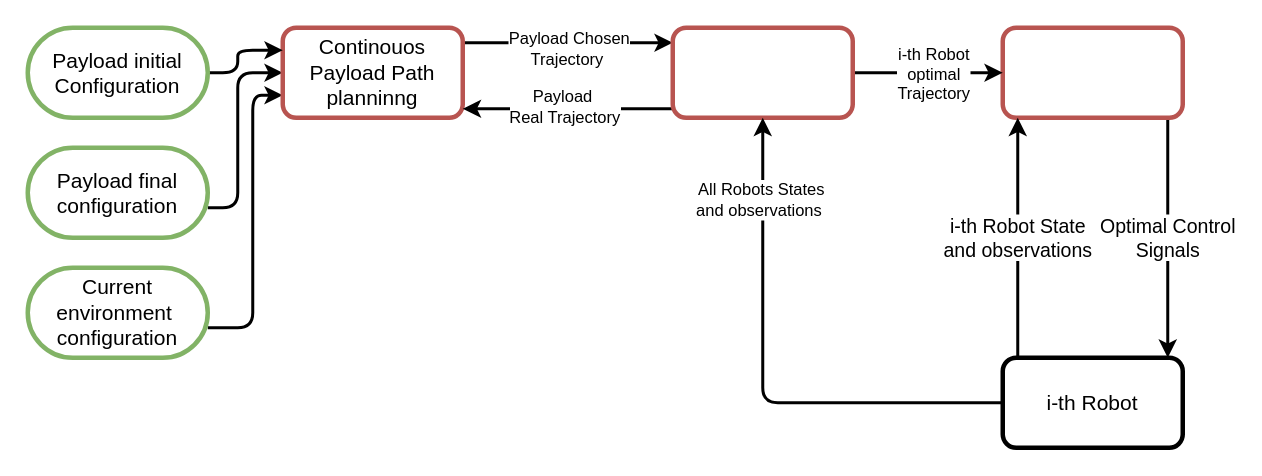
The diagram is 1262 pixels wide and 476 high, and some of its shapes have lost their labels. The centre of each missing label's shape, as x and y in pixels:
Robot motion control algorithm: (1092,72)
Robot trajectory planning and optimization: (762,72)
